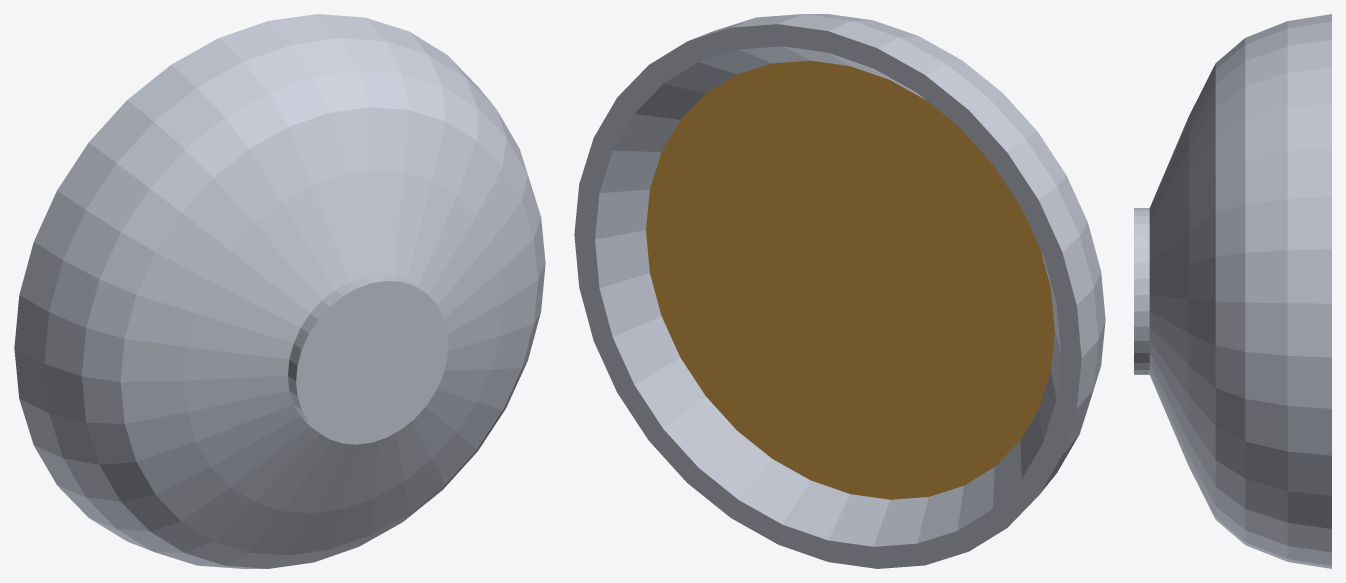
The model's file is chabpon.fbx.
3 views of the same model, side by side, from view 1: azimuth 30°, elevation 25°; view 2: azimuth 150°, elevation 25°; view 3: azimuth 270°, elevation 25° (orthographic). The views are drawn at different scales.
Visible parts, largest first — view 1: Circle; view 2: Circle; view 3: Circle.
Boxes of the visible parts, x1,y1,x2,y2 form: Circle: [14, 14, 545, 568]; Circle: [574, 14, 1105, 568]; Circle: [1134, 14, 1331, 568].
Bounding box in the file's own units: 665 × 665 × 237.
